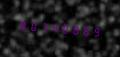eight: (17, 16, 26, 34), (67, 20, 76, 38)
four: (47, 18, 56, 36)
nine: (87, 22, 96, 40)
seven: (37, 18, 46, 35)
six: (77, 21, 86, 39)
zero: (57, 19, 66, 37), (27, 17, 36, 34)
